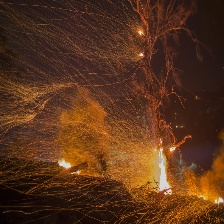fire: (157, 143, 176, 196), (55, 157, 81, 176), (210, 195, 224, 205), (135, 28, 146, 37), (137, 52, 144, 56)
